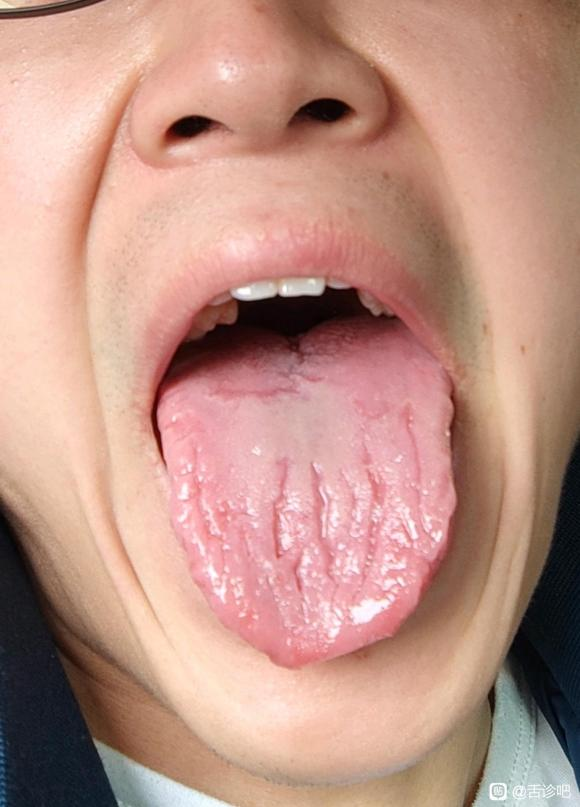huangtaishe: (160, 318, 457, 670)
liewenshe: (255, 440, 384, 599)
